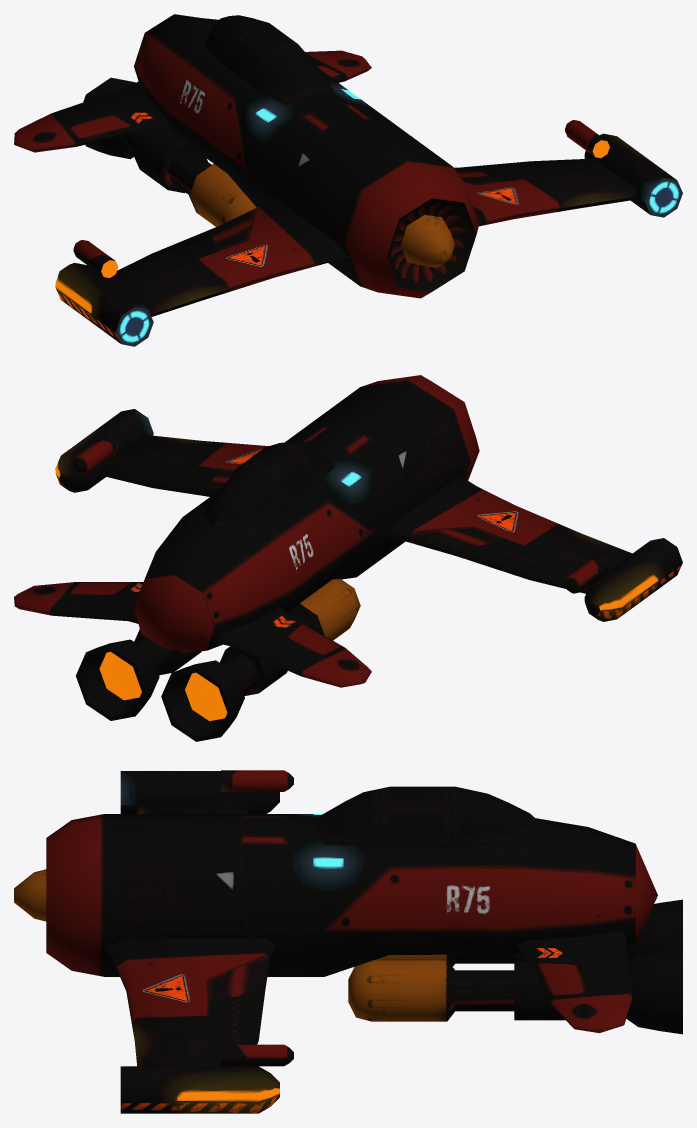
Rendered from scifi_small_plane.glb.
3 views of the same model, one above another, from view 1: azimuth 30°, elevation 25°; view 2: azimuth 150°, elevation 25°; view 3: azimuth 270°, elevation 25° (orthographic). The views are drawn at different scales.
Parts seen in each view (by area): view 1: Cube; view 2: Cube; view 3: Cube.
Boxes of the visible parts, <box> form: Cube: <box>14,14,682,346</box>; Cube: <box>14,375,682,741</box>; Cube: <box>14,770,682,1113</box>.
Size of the model in its own units: 893 by 290 by 798.
1 material, 1 textured.
